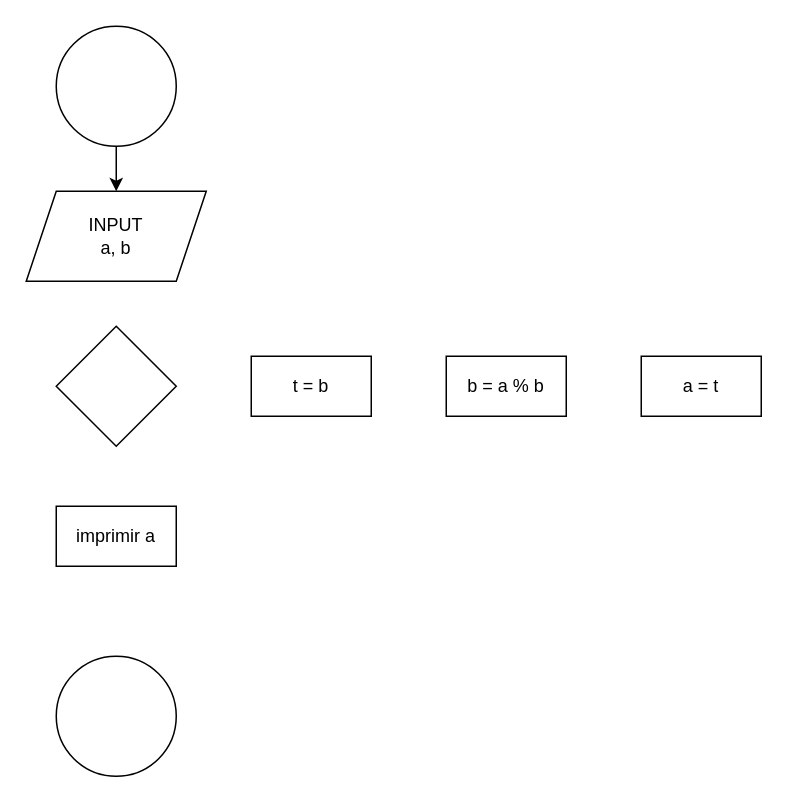
The diagram is 788 pixels wide and 803 high, and some of its shapes have lost their labels. The shapes that lost their labels are listed below. From the top down, each one's centre as x and y in pixels, then its label:
At point (115, 85): "INICIO".
At point (115, 385): "mientras b != 0".
At point (115, 715): "FIN".
